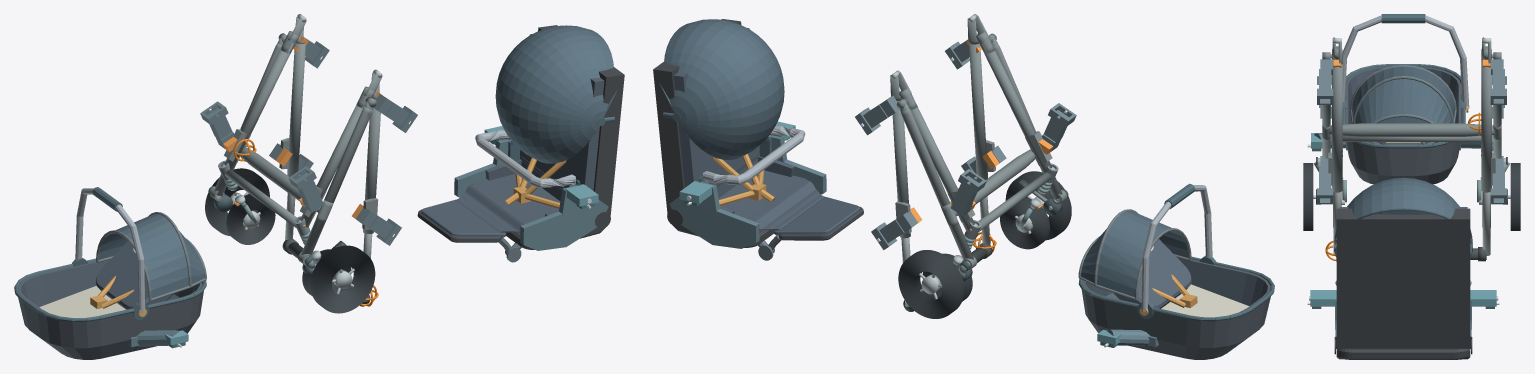
File: D06_w550_state3_wheel_S.glb
3 renders of one model, left to right at view 1: azimuth 30°, elevation 25°; view 2: azimuth 150°, elevation 25°; view 3: azimuth 270°, elevation 25°, orthographic. The views are drawn at different scales.
Parts seen in each view (by area): view 1: D06_Lower, D06_Upper, D06_Lower_Mount_L, RL_tire.004, main_upper_1.005, FR_tire.004, V46_rear_leg_-1.005, main_lower_1.005, RR_tire.004, main_lower_-1.005, main_upper_-1.005, V46_rearbar.005 (+7 smaller); view 2: D06_Lower, D06_Upper, D06_Lower_Mount_L, RR_tire.004, main_upper_-1.005, V46_rear_leg_1.005, FL_tire.004, main_lower_-1.005, main_lower_1.005, main_upper_1.005, RL_tire.004, V46_rearbar.005 (+7 smaller); view 3: D06_Lower, D06_Upper, V46_rearbar.005, main_upper_1.005, main_upper_-1.005, D06_Lower_Mount_L, RL_tire.004, RR_tire.004, front_fixed_round_tube.004, Universal_Cabin_Receiver_M_1, Universal_Cabin_Receiver_M_-1, Universal_Cabin_Receiver_H_1 (+6 smaller).
Part boxes in pixels (x1,y1,x2,y2): D06_Lower: [417, 25, 624, 262]; D06_Upper: [14, 187, 206, 359]; D06_Lower_Mount_L: [454, 126, 608, 250]; RL_tire.004: [310, 245, 375, 313]; main_upper_1.005: [287, 43, 305, 176]; FR_tire.004: [226, 194, 275, 244]; V46_rear_leg_-1.005: [301, 106, 372, 255]; main_lower_1.005: [224, 43, 293, 170]; RR_tire.004: [205, 168, 269, 236]; main_lower_-1.005: [300, 104, 365, 227]; main_upper_-1.005: [363, 99, 380, 233]; V46_rearbar.005: [240, 147, 320, 212]; D06_Lower: [653, 19, 863, 260]; D06_Upper: [1078, 183, 1274, 359]; D06_Lower_Mount_L: [669, 121, 826, 248]; RR_tire.004: [898, 250, 964, 318]; main_upper_-1.005: [969, 43, 987, 179]; V46_rear_leg_1.005: [901, 108, 973, 259]; FL_tire.004: [1000, 197, 1049, 249]; main_lower_-1.005: [981, 43, 1051, 173]; main_lower_1.005: [908, 106, 974, 231]; main_upper_1.005: [892, 101, 910, 238]; RL_tire.004: [1005, 171, 1071, 240]; V46_rearbar.005: [954, 149, 1035, 216]; D06_Lower: [1334, 177, 1472, 359]; D06_Upper: [1342, 14, 1469, 184]; V46_rearbar.005: [1329, 123, 1494, 136]; main_upper_1.005: [1481, 64, 1491, 192]; main_upper_-1.005: [1332, 64, 1342, 192]; D06_Lower_Mount_L: [1307, 290, 1499, 348]; RL_tire.004: [1303, 163, 1313, 230]; RR_tire.004: [1510, 163, 1520, 230]; front_fixed_round_tube.004: [1342, 136, 1481, 141]; Universal_Cabin_Receiver_M_1: [1490, 59, 1506, 104]; Universal_Cabin_Receiver_M_-1: [1317, 59, 1333, 104]; Universal_Cabin_Receiver_H_1: [1490, 158, 1506, 204].
Size of the model in its own units: 1.91 by 0.7426 by 0.641.
